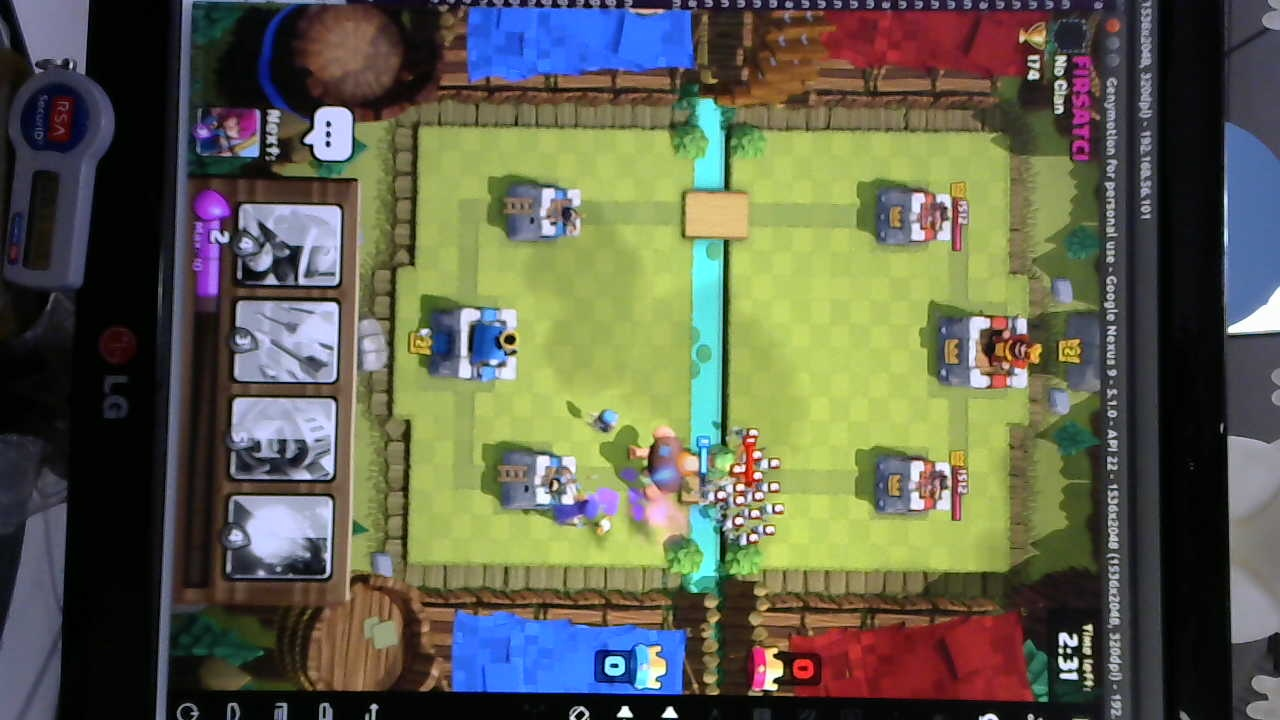arena: (505, 451, 583, 518), (502, 183, 578, 246)
bomb: (589, 408, 624, 435)
dragon: (697, 442, 742, 483)
earena: (871, 187, 954, 246), (874, 454, 953, 514)
eking: (931, 309, 1039, 394)
giant: (630, 424, 698, 498)
king: (428, 302, 523, 385)
skeletonarmy: (708, 431, 784, 546)
witch: (548, 498, 615, 530)
